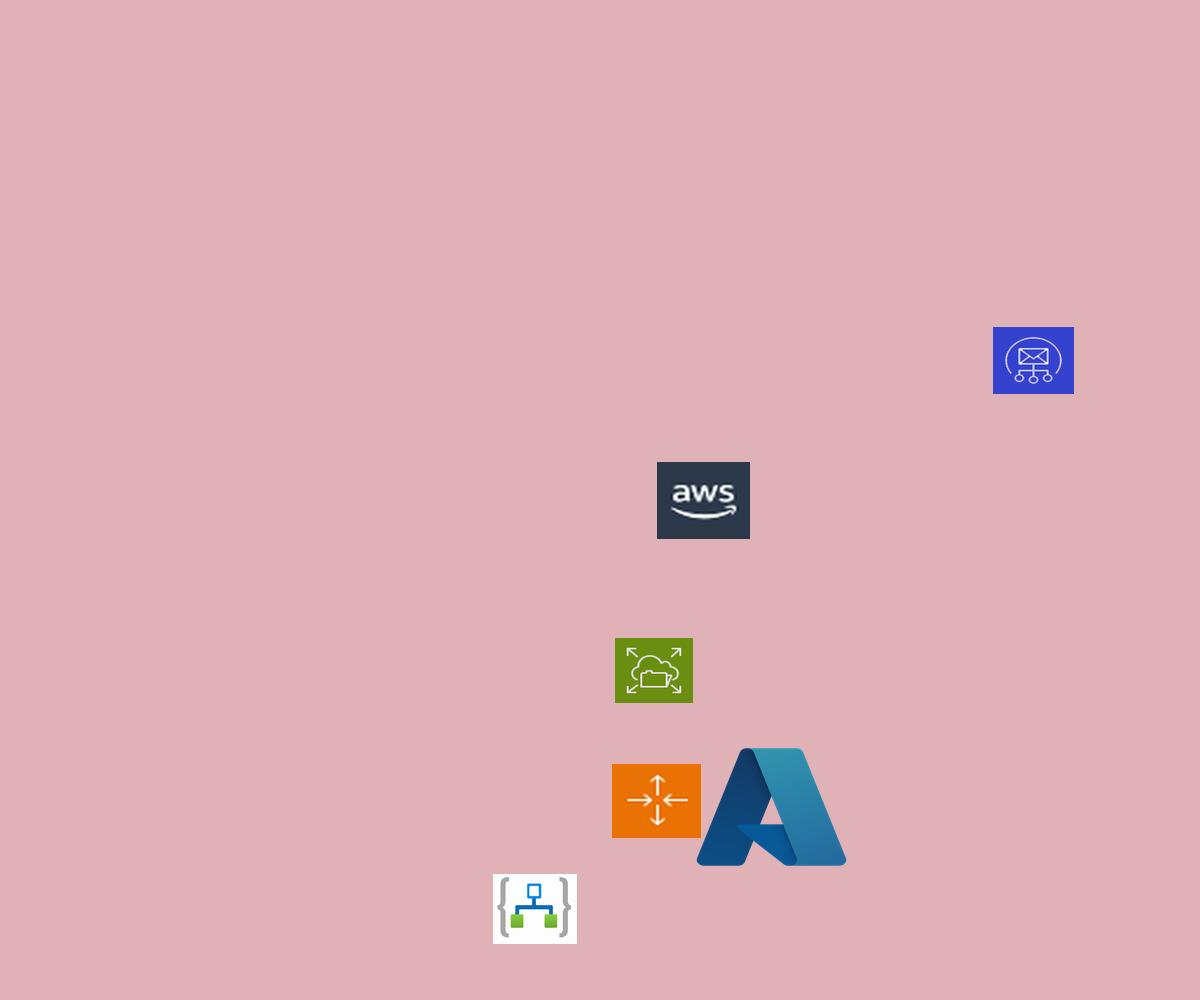AWS-Cloud-logo: (657, 462, 750, 539)
AWS-EFS: (615, 638, 693, 703)
AWS-Scaling-group: (612, 764, 701, 838)
AWS-Simple-Email-Service: (993, 327, 1074, 394)
Azure_integration-204-Logic-Apps: (493, 874, 577, 944)
Azure_services: (690, 739, 853, 875)
